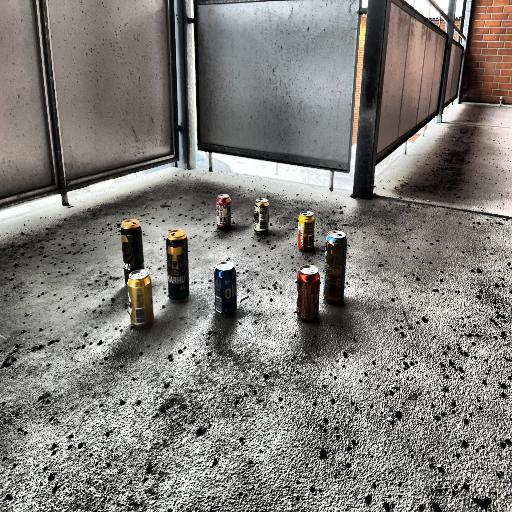A_LeCoq: (125, 269, 157, 333)
coop_larger: (294, 261, 324, 324)
karhu: (162, 219, 194, 310), (114, 215, 146, 273)
koff: (208, 188, 241, 248)
koti: (213, 258, 256, 333)
sandels: (247, 192, 273, 242)
